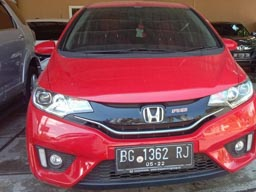plat: (116, 145, 191, 160)
